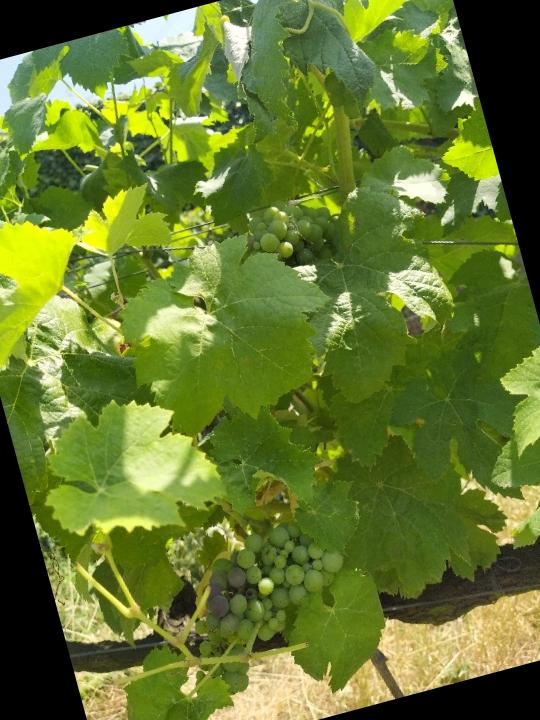grape: (165, 510, 373, 703)
